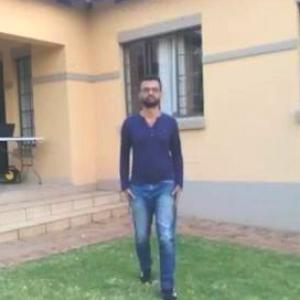follow: (117, 66, 182, 264)
